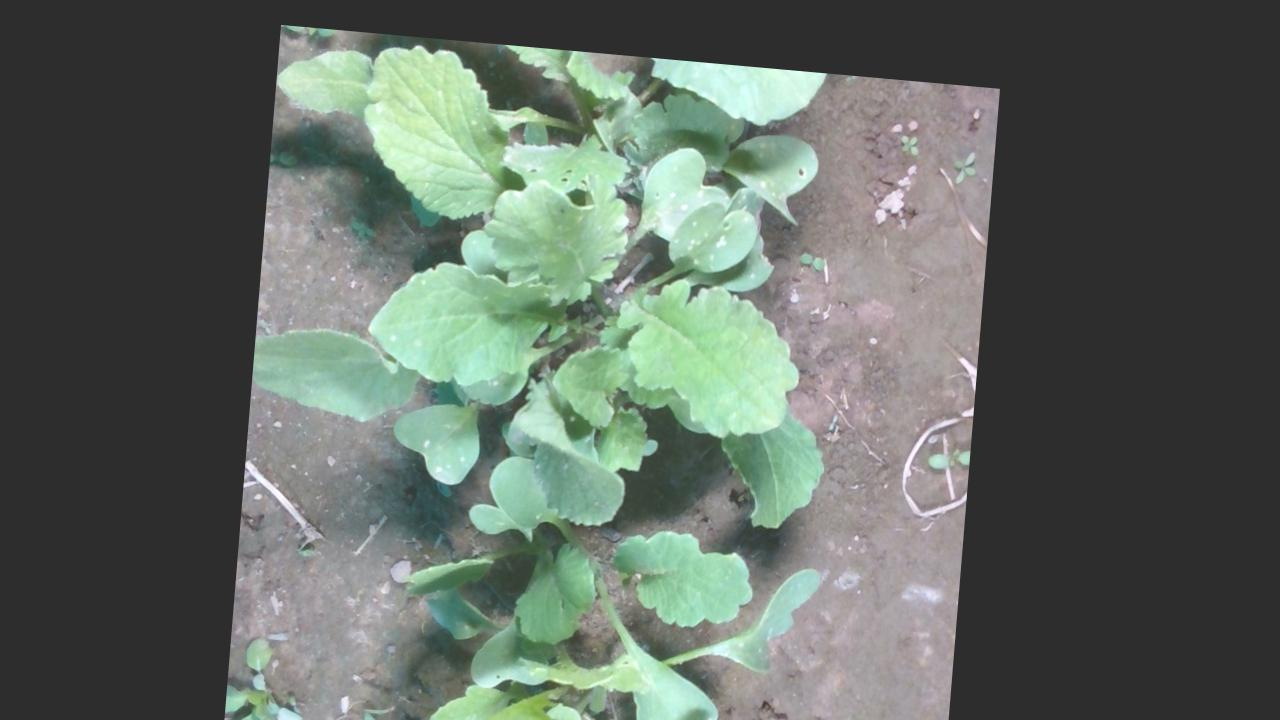weed: (953, 130, 981, 167), (801, 234, 832, 255), (900, 116, 922, 138)
